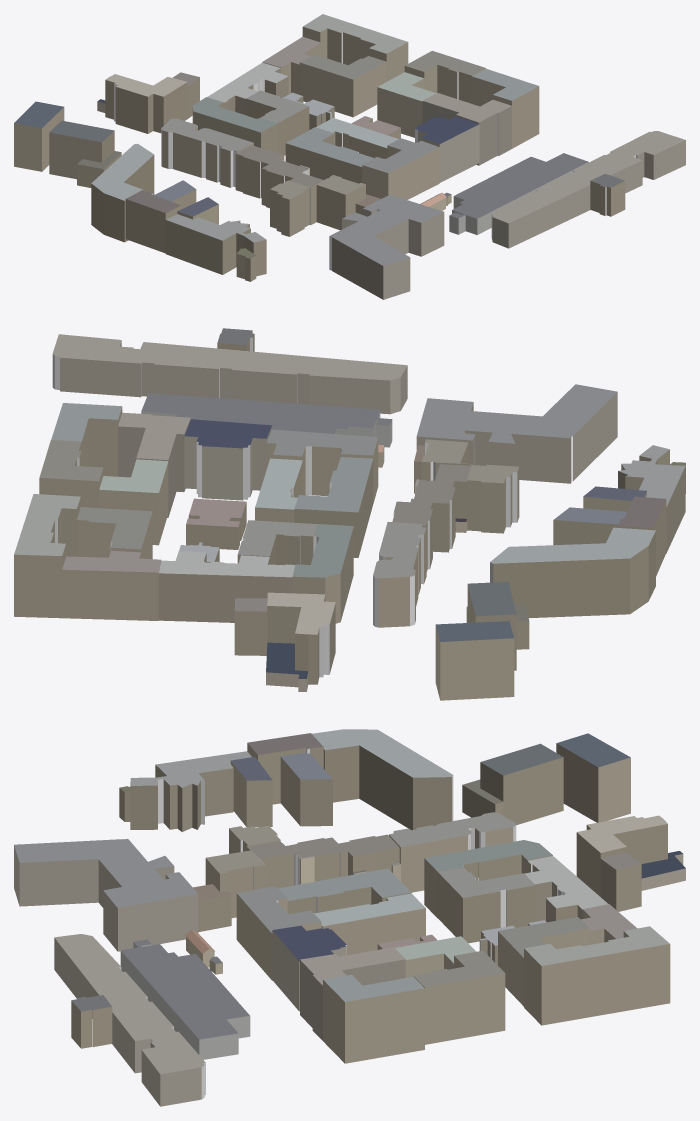
3 renders of one model, top to bottom at view 1: azimuth 30°, elevation 25°; view 2: azimuth 150°, elevation 25°; view 3: azimuth 270°, elevation 25°, orthographic. The views are drawn at different scales.
Parts seen in each view (by area): view 1: tuile; view 2: tuile; view 3: tuile.
Boxes of the visible parts, bbox=[...] form: tuile: bbox=[14, 14, 685, 299]; tuile: bbox=[14, 328, 685, 700]; tuile: bbox=[14, 729, 685, 1106].
Bounding box in the file's own units: 326 × 31.57 × 289.
